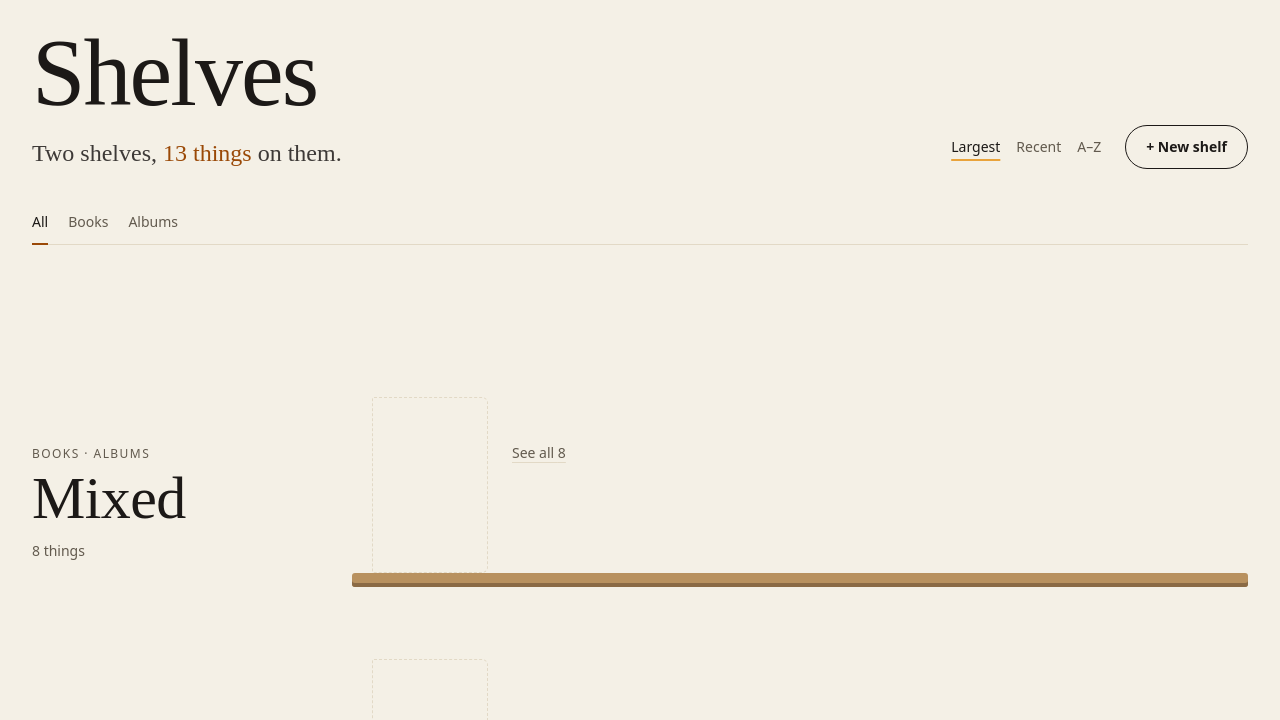
ShelvesPage › the domain filter narrows the room
The width and height of the screenshot is (1280, 720).
Expected: the list item "Books · Albums Mixed 8 things See all 8" is shown, left=32, top=397, right=1248, bottom=587
Step 1. Click the radio button labelled "Albums" → x=153, y=223, box left=128, top=201, right=178, bottom=245
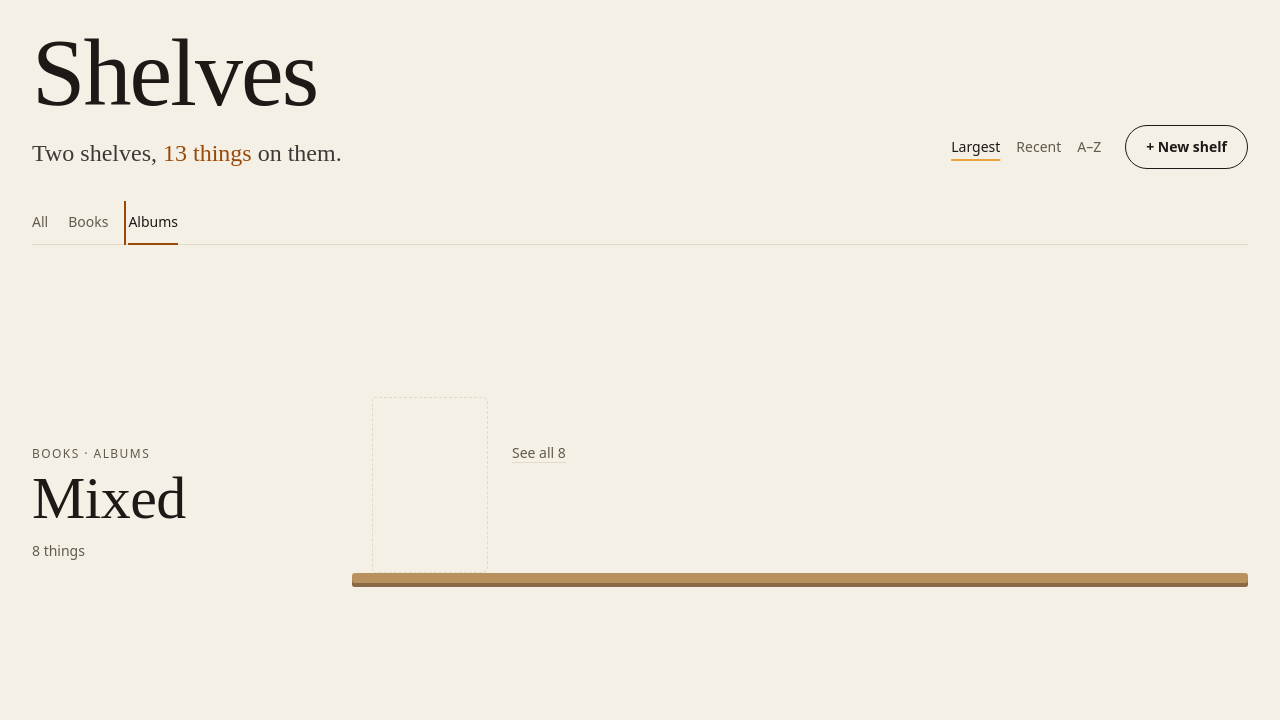
Expected: the link "Mixed" is shown, left=32, top=465, right=186, bottom=531
Step 2. Click the radio button labelled "All" → x=40, y=223, box left=32, top=201, right=48, bottom=245
(page scrolled)
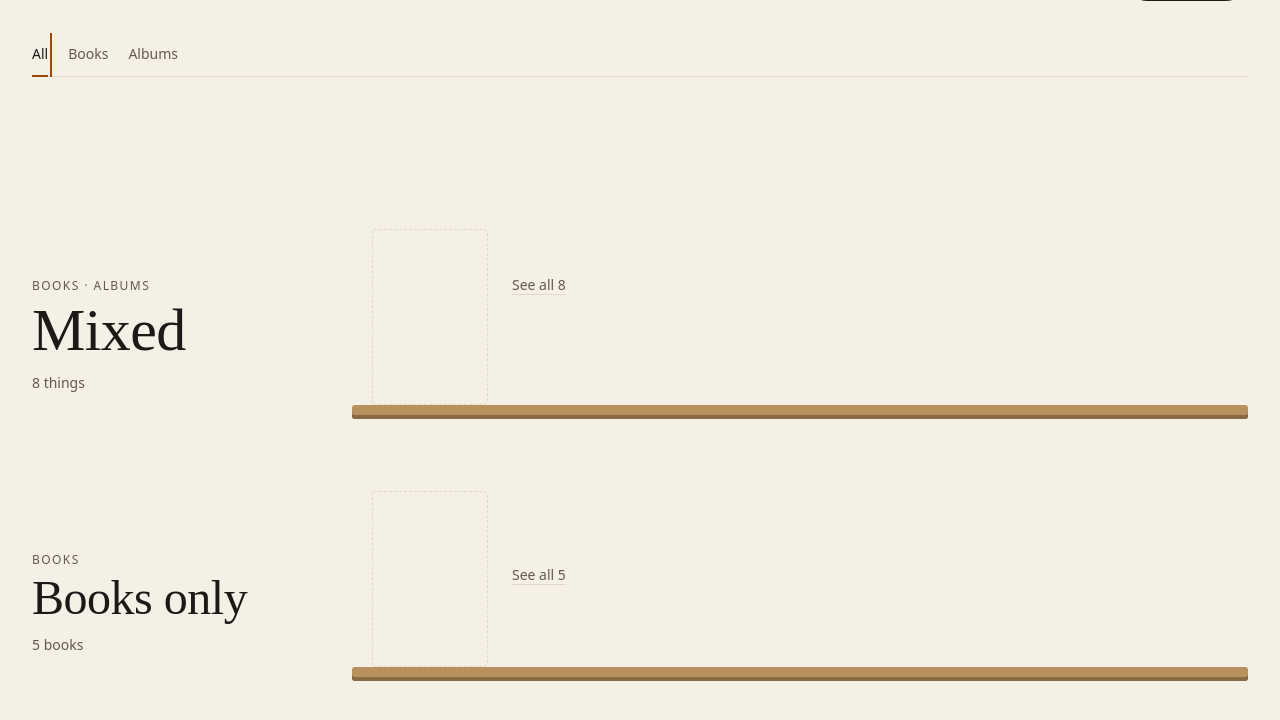
Result: the link "Books only" is shown at left=32, top=571, right=247, bottom=624
